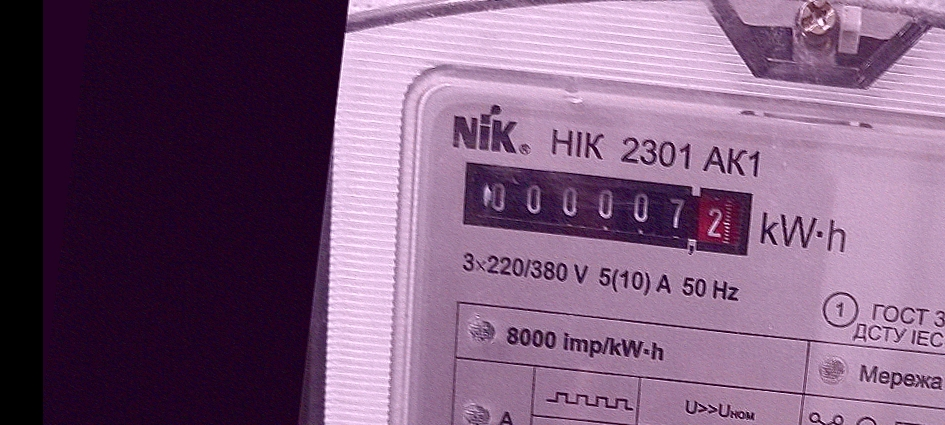0: (557, 180, 584, 221), (486, 177, 512, 214), (629, 187, 654, 225), (595, 185, 619, 224), (523, 179, 547, 216)
2: (703, 203, 728, 241)
7: (664, 192, 689, 232)
screen: (454, 150, 765, 266)
